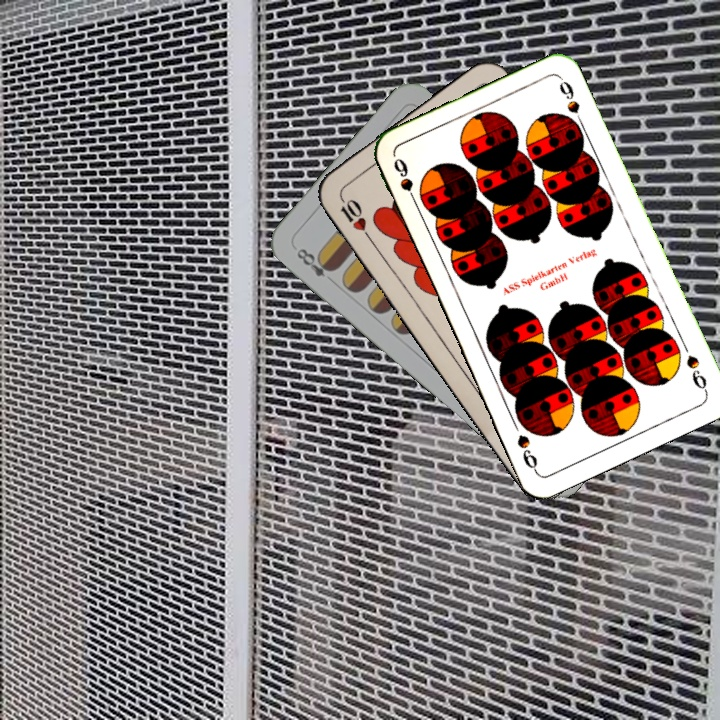E8: (292, 244, 338, 280)
H10: (335, 191, 374, 243)
S9: (389, 153, 421, 210), (682, 351, 710, 396)
